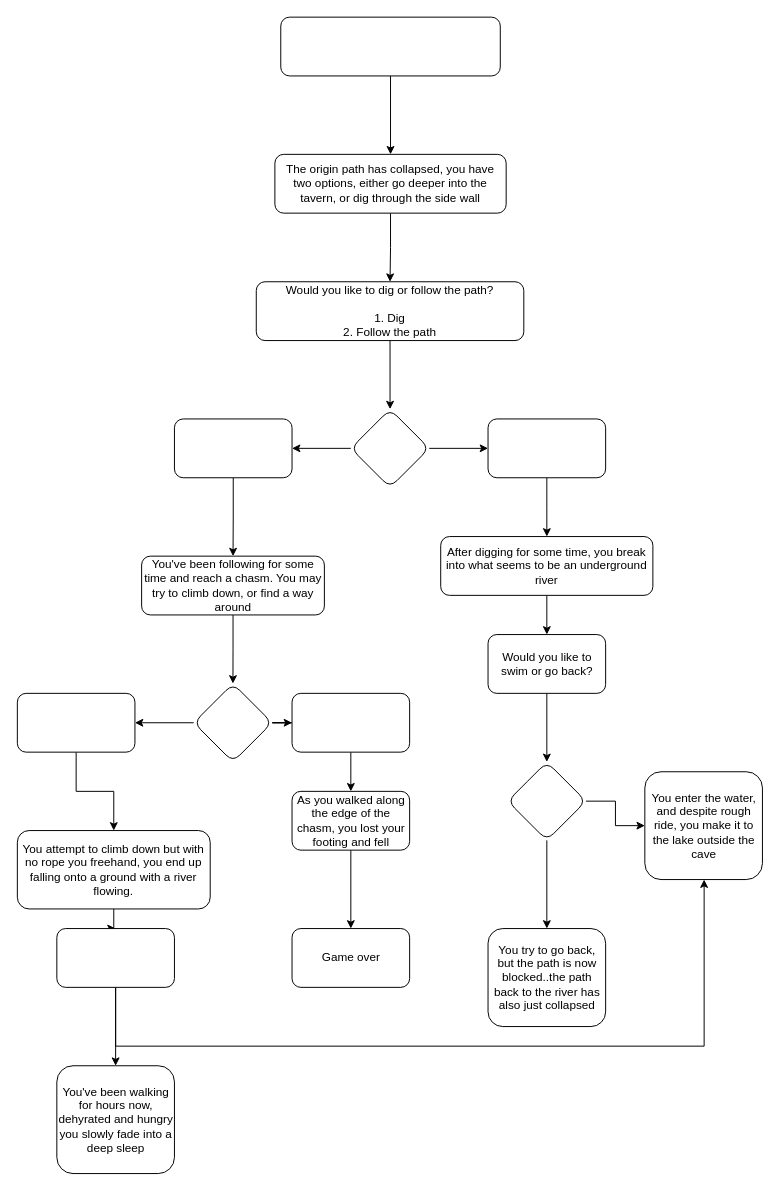
The diagram is 780 pixels wide and 1191 high, and some of its shapes have lost their labels. The centre of each missing label's shape, as x and y in pixels:
Climb down: the point at 75,722
Dig: the point at 546,448
Find a way around: the point at 350,722
Follow path: the point at 232,448
Welcome to the ice tavern, where you are trying to escape before total collapse: the point at 390,46
Would you like to swim? or continue walking?: the point at 115,957
